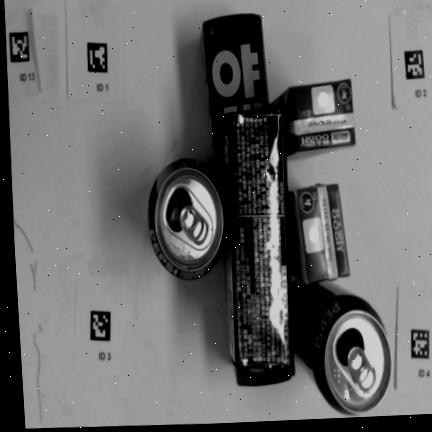can_pepsi: (292, 280, 390, 414)
can_pepsi_zero: (148, 158, 224, 279)
cracker_vege: (197, 12, 270, 201)
gum_green: (223, 112, 291, 368)
milk_blue: (270, 79, 355, 154)
milk_green: (290, 184, 349, 283)
